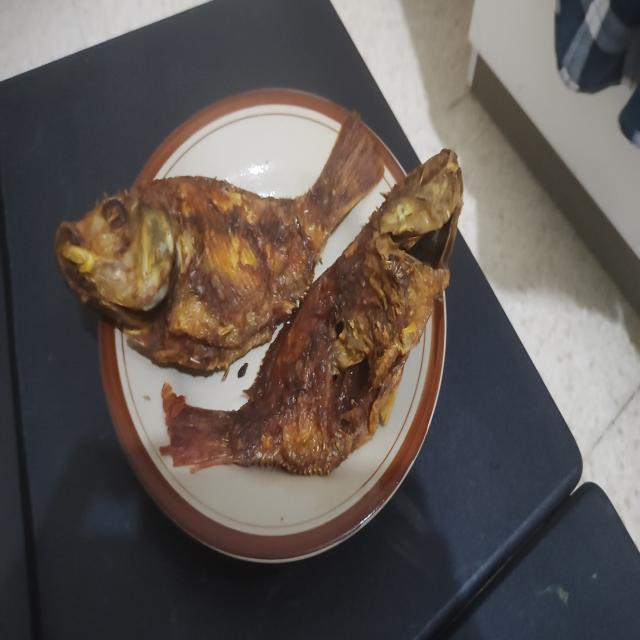ikan_mujair: (160, 150, 462, 475), (55, 112, 382, 372)
